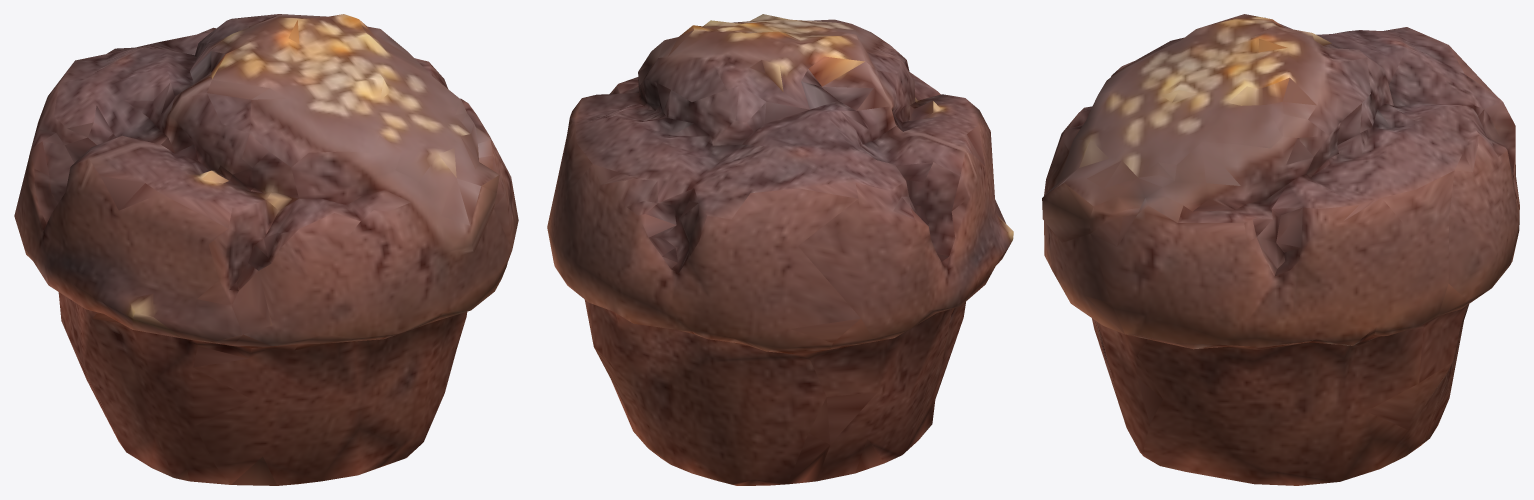
File: muffin_1034.obj
3 views of the same model, side by side, from view 1: azimuth 30°, elevation 25°; view 2: azimuth 150°, elevation 25°; view 3: azimuth 270°, elevation 25° (orthographic). The views are drawn at different scales.
Bounding box in the file's own units: 14.27 × 12.96 × 14.34.
Materials: 1 (1 with a texture image).
